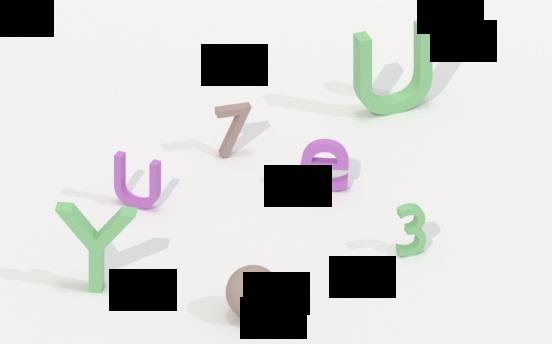3: (391, 200, 431, 260)
7: (210, 100, 257, 160)
Y-hoa: (50, 199, 142, 292)
cau: (222, 260, 286, 324)
e: (297, 137, 353, 195)
u: (347, 21, 435, 119), (107, 149, 166, 211)
